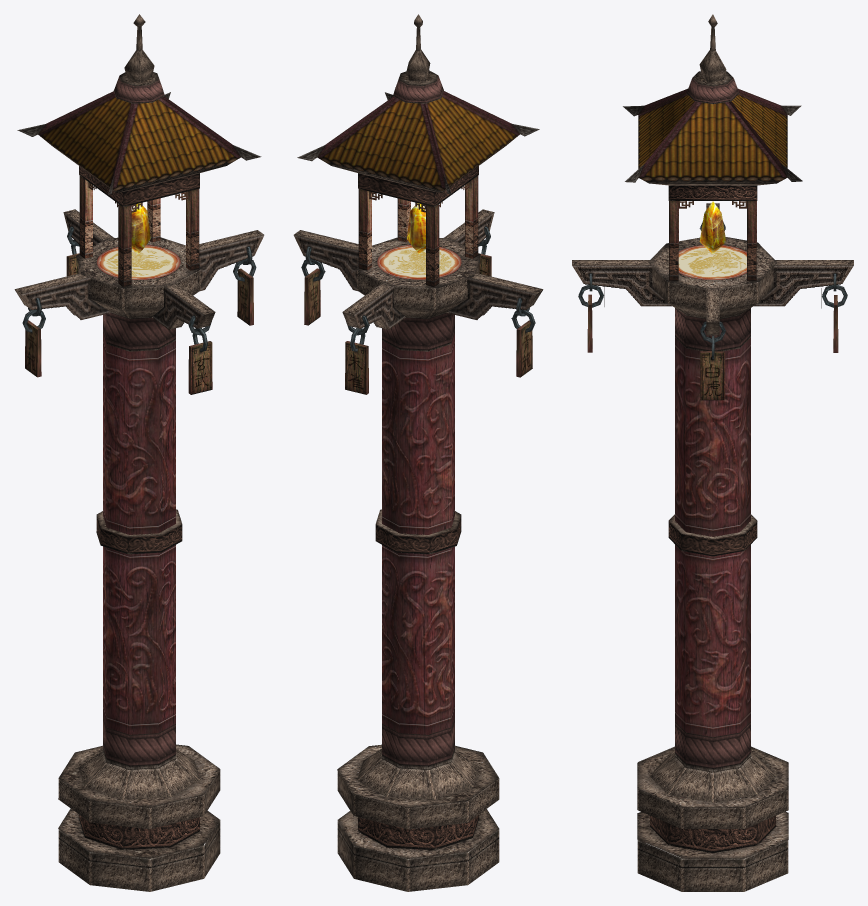
File: fancy_tower.FBX
3 views of the same model, side by side, from view 1: azimuth 30°, elevation 25°; view 2: azimuth 150°, elevation 25°; view 3: azimuth 270°, elevation 25° (orthographic).
Parts seen in each view (by area): view 1: fancy_tower; view 2: fancy_tower; view 3: fancy_tower.
Boxes of the visible parts, x1,y1,x2,y2 form: fancy_tower: (14,14,264,891); fancy_tower: (293,14,543,891); fancy_tower: (572,14,853,891).
Bounding box in the file's own units: 35 × 116 × 35.
Materials: 1 (1 with a texture image).
